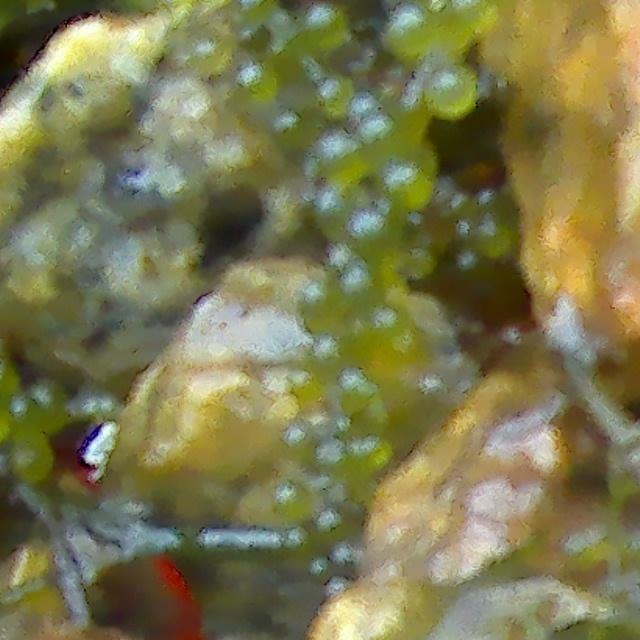SeaGrape: (380, 4, 438, 60), (427, 62, 475, 121), (298, 278, 346, 334), (160, 73, 213, 121), (234, 67, 286, 111), (322, 137, 367, 185), (387, 164, 429, 212), (304, 6, 347, 52), (358, 117, 398, 165), (317, 185, 354, 232), (351, 213, 389, 257), (274, 481, 312, 523), (317, 77, 358, 115), (356, 433, 391, 469)
